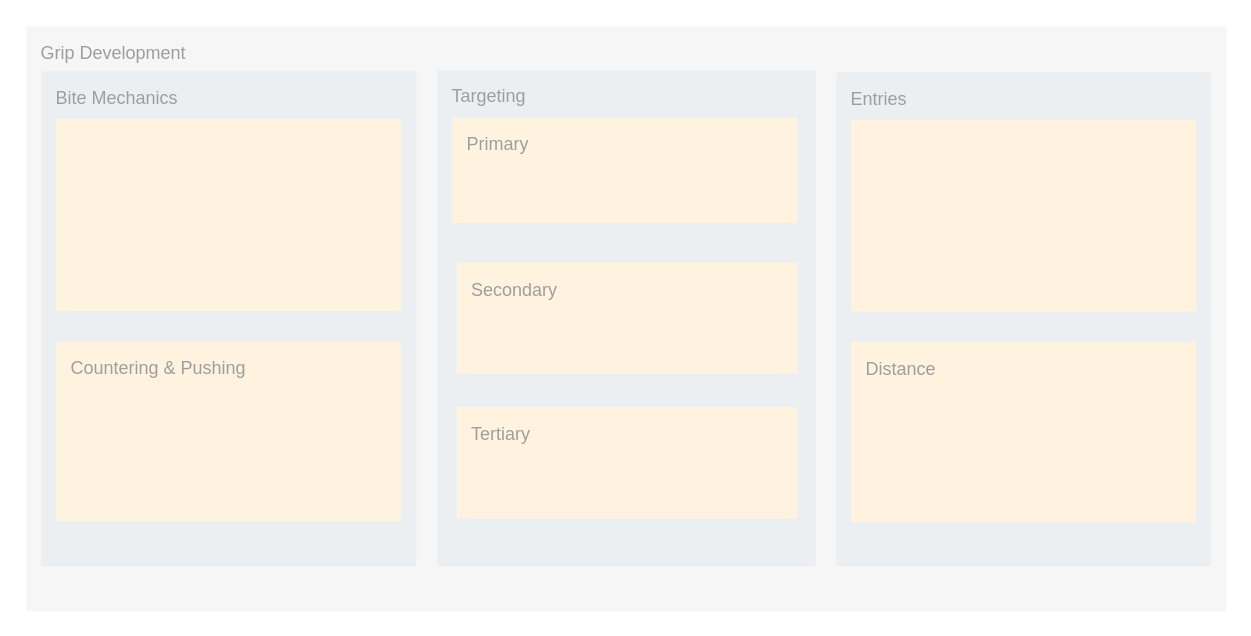
Image size: 1251x636. Some labels were removed from this diagram. Each missing label, with the centre of its shape:
Pressure & Depth: the point at 228,214
Speed & Power: the point at 1023,214
